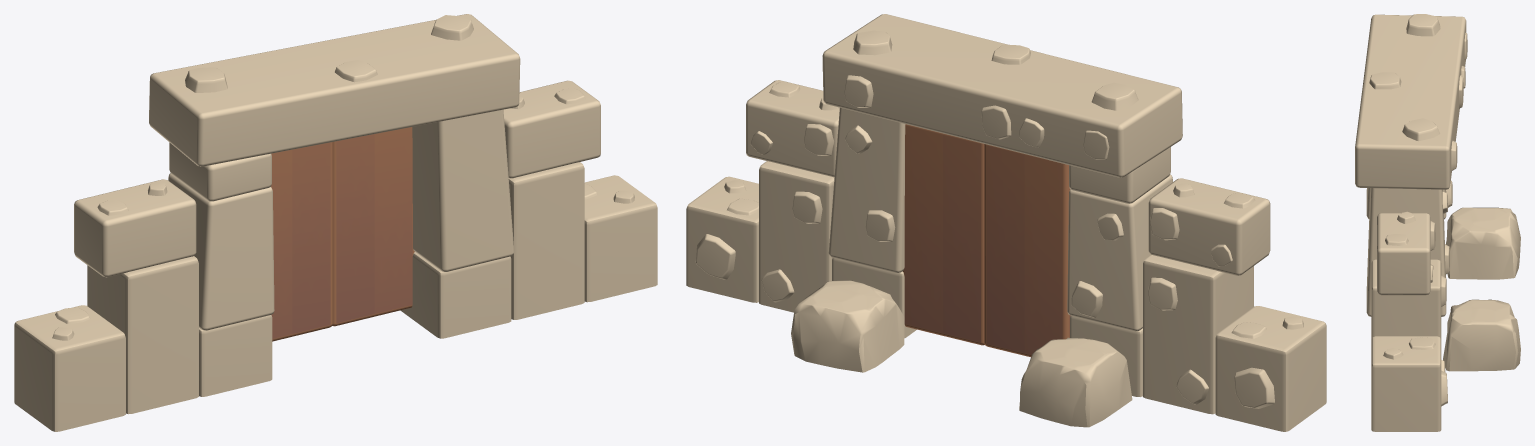
Rendered from Gates.fbx.
The picture shows the model from 3 angles, left to right: view 1: azimuth 30°, elevation 25°; view 2: azimuth 150°, elevation 25°; view 3: azimuth 270°, elevation 25°; orthographic projection. The views are drawn at different scales.
Parts seen in each view (by area): view 1: Wall21, Wall8, Wall26, Wall24, Doors, Doors1, polySurface34, polySurface33, polySurface35; view 2: Wall8, Wall26, Wall21, Wall24, Doors1, Doors, Stone2, Stone4, polySurface43, polySurface30, polySurface34, polySurface41 (+12 smaller); view 3: Wall8, Wall24, Stone4, Stone2, Wall21, polySurface34, polySurface33, polySurface35, polySurface28, polySurface31, polySurface30, polySurface23 (+2 smaller).
Part boxes in pixels (x1,y1,x2,y2): Wall21: (168, 109, 514, 396); Wall8: (149, 14, 520, 166); Wall26: (14, 179, 198, 431); Wall24: (503, 80, 657, 319); Doors: (332, 127, 414, 326); Doors1: (271, 142, 332, 341); polySurface34: (185, 67, 227, 92); polySurface33: (431, 15, 473, 40); polySurface35: (335, 60, 377, 82); Wall8: (822, 14, 1182, 177); Wall26: (1143, 178, 1326, 431); Wall21: (828, 107, 1172, 396); Wall24: (686, 80, 839, 312); Doors1: (984, 144, 1070, 357); Doors: (902, 124, 984, 345); Stone2: (791, 280, 904, 372); Stone4: (1019, 337, 1132, 427); polySurface43: (1234, 367, 1274, 408); polySurface30: (695, 234, 735, 279); polySurface34: (1091, 82, 1138, 110); polySurface41: (1071, 281, 1102, 317); Wall8: (1355, 14, 1466, 189); Wall24: (1371, 213, 1441, 431); Stone4: (1445, 207, 1520, 279); Stone2: (1443, 299, 1520, 371); Wall21: (1366, 188, 1446, 316); polySurface34: (1406, 14, 1440, 36); polySurface33: (1402, 118, 1439, 141); polySurface35: (1369, 72, 1401, 89); polySurface28: (1409, 337, 1435, 349); polySurface31: (1385, 234, 1408, 245); polySurface30: (1441, 370, 1447, 406); polySurface23: (1451, 141, 1457, 171).
Size of the model in its own units: 825 by 381 by 236.
